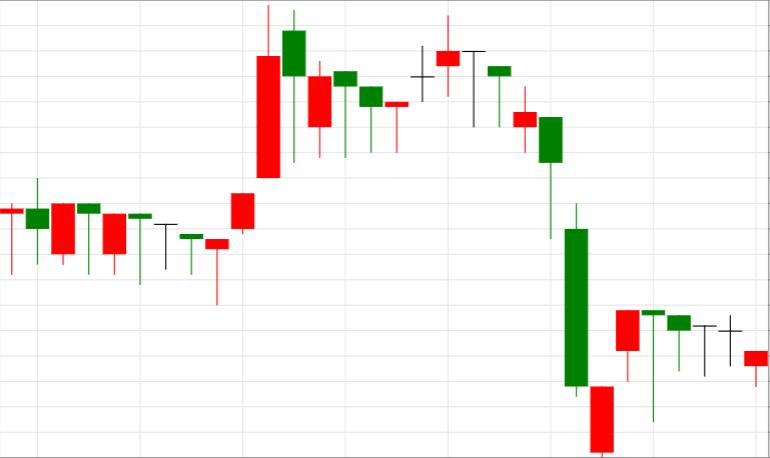hammer_rise: (436, 16, 562, 238)
